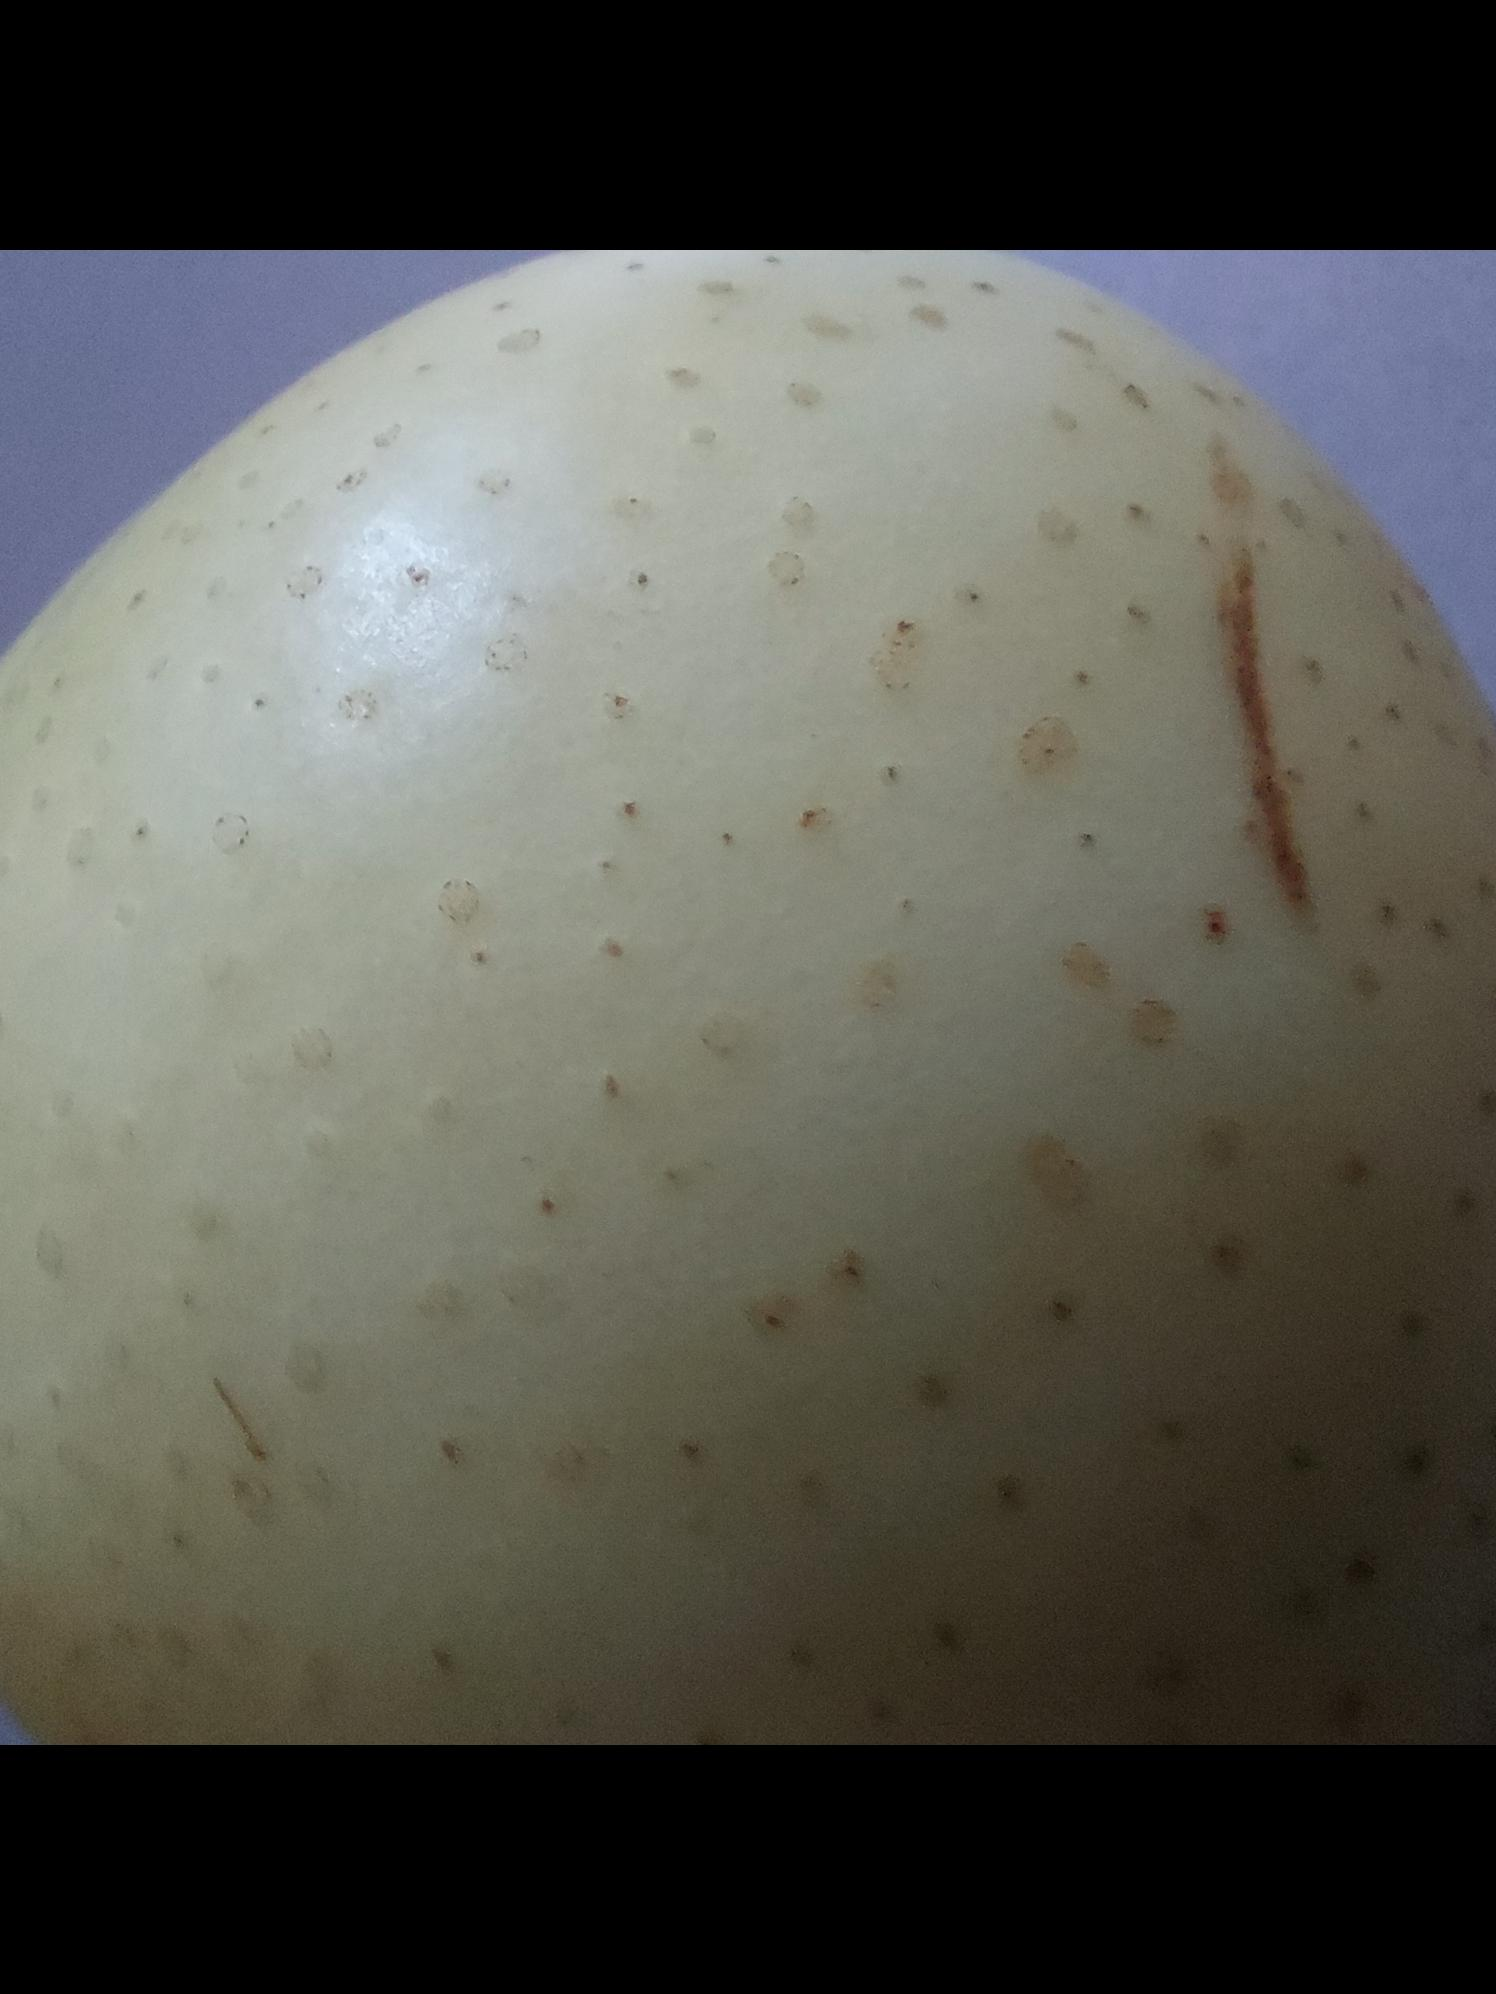Good Pear: (0, 251, 1496, 1746)
